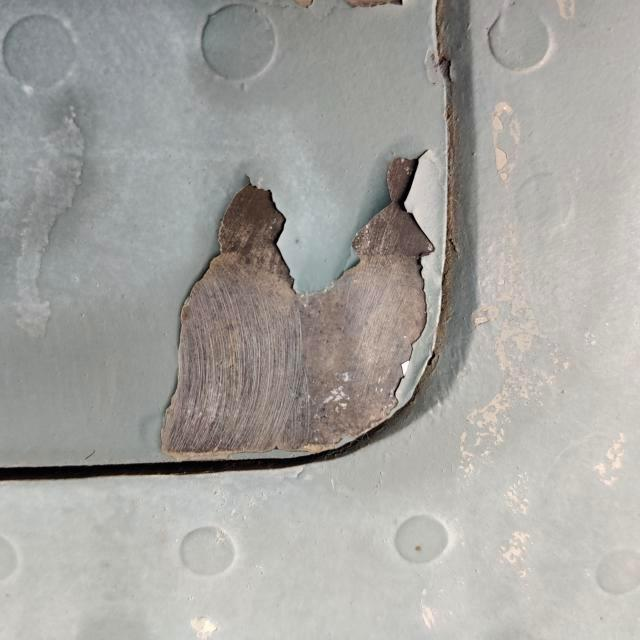paint-off: (128, 117, 497, 493)
